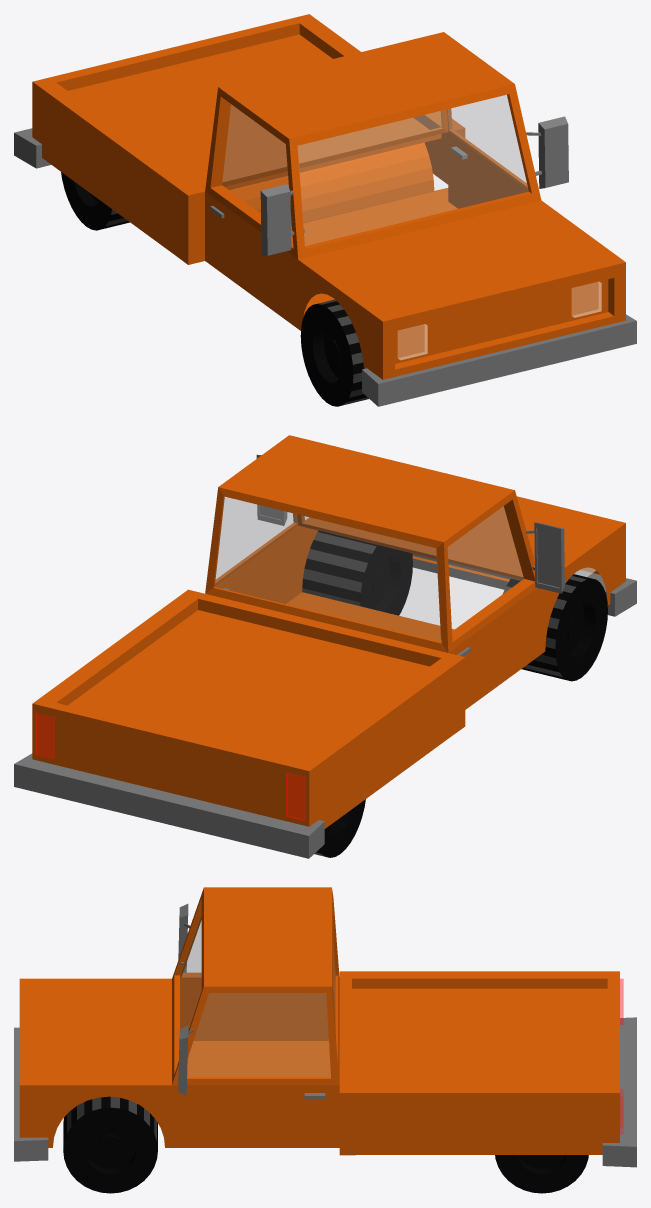
The model's file is lopolyTruck.glb.
The picture shows the model from 3 angles, top to bottom: view 1: azimuth 30°, elevation 25°; view 2: azimuth 150°, elevation 25°; view 3: azimuth 270°, elevation 25°; orthographic projection. The views are drawn at different scales.
Visible parts, largest first — view 1: truck, wheel.FR, wheel.RR; view 2: truck, wheel.FL, wheel.FR, wheel.RR; view 3: truck, wheel.FL, wheel.RL.
Part boxes in pixels (x1,y1,x2,y2): truck: [14, 14, 636, 406]; wheel.FR: [300, 299, 368, 406]; wheel.RR: [61, 172, 129, 230]; truck: [14, 435, 636, 858]; wheel.FL: [302, 530, 412, 615]; wheel.FR: [502, 574, 607, 681]; wheel.RR: [314, 799, 365, 857]; truck: [14, 887, 636, 1167]; wheel.FL: [63, 1096, 157, 1193]; wheel.RL: [495, 1155, 588, 1193].
Bounding box in the file's own units: 2.5 × 1.75 × 4.93.
